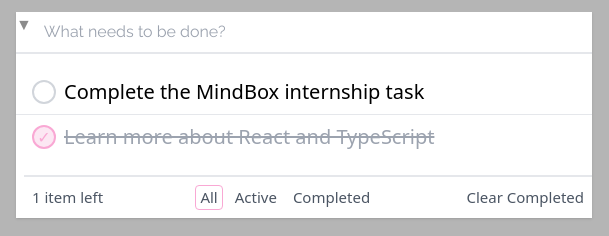
Todos Component - Essential Tests › toggles todo completion when clicked
Click the list item "Complete the MindBox internship task": coordinates (228, 92) [32,78,424,105]
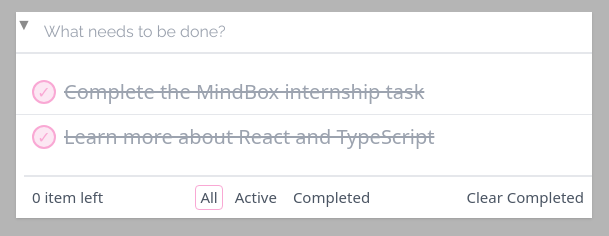
expect the text "0 item left" is shown: met, box [32,186,103,208]
Click the list item "✓ Complete the MindBox internship task": coordinates (228, 92) [32,78,424,105]
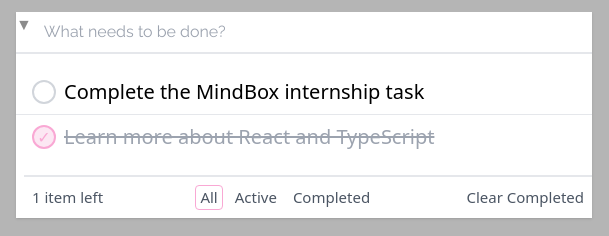
expect the text "1 item left" is shown: met, box [32,186,103,208]
